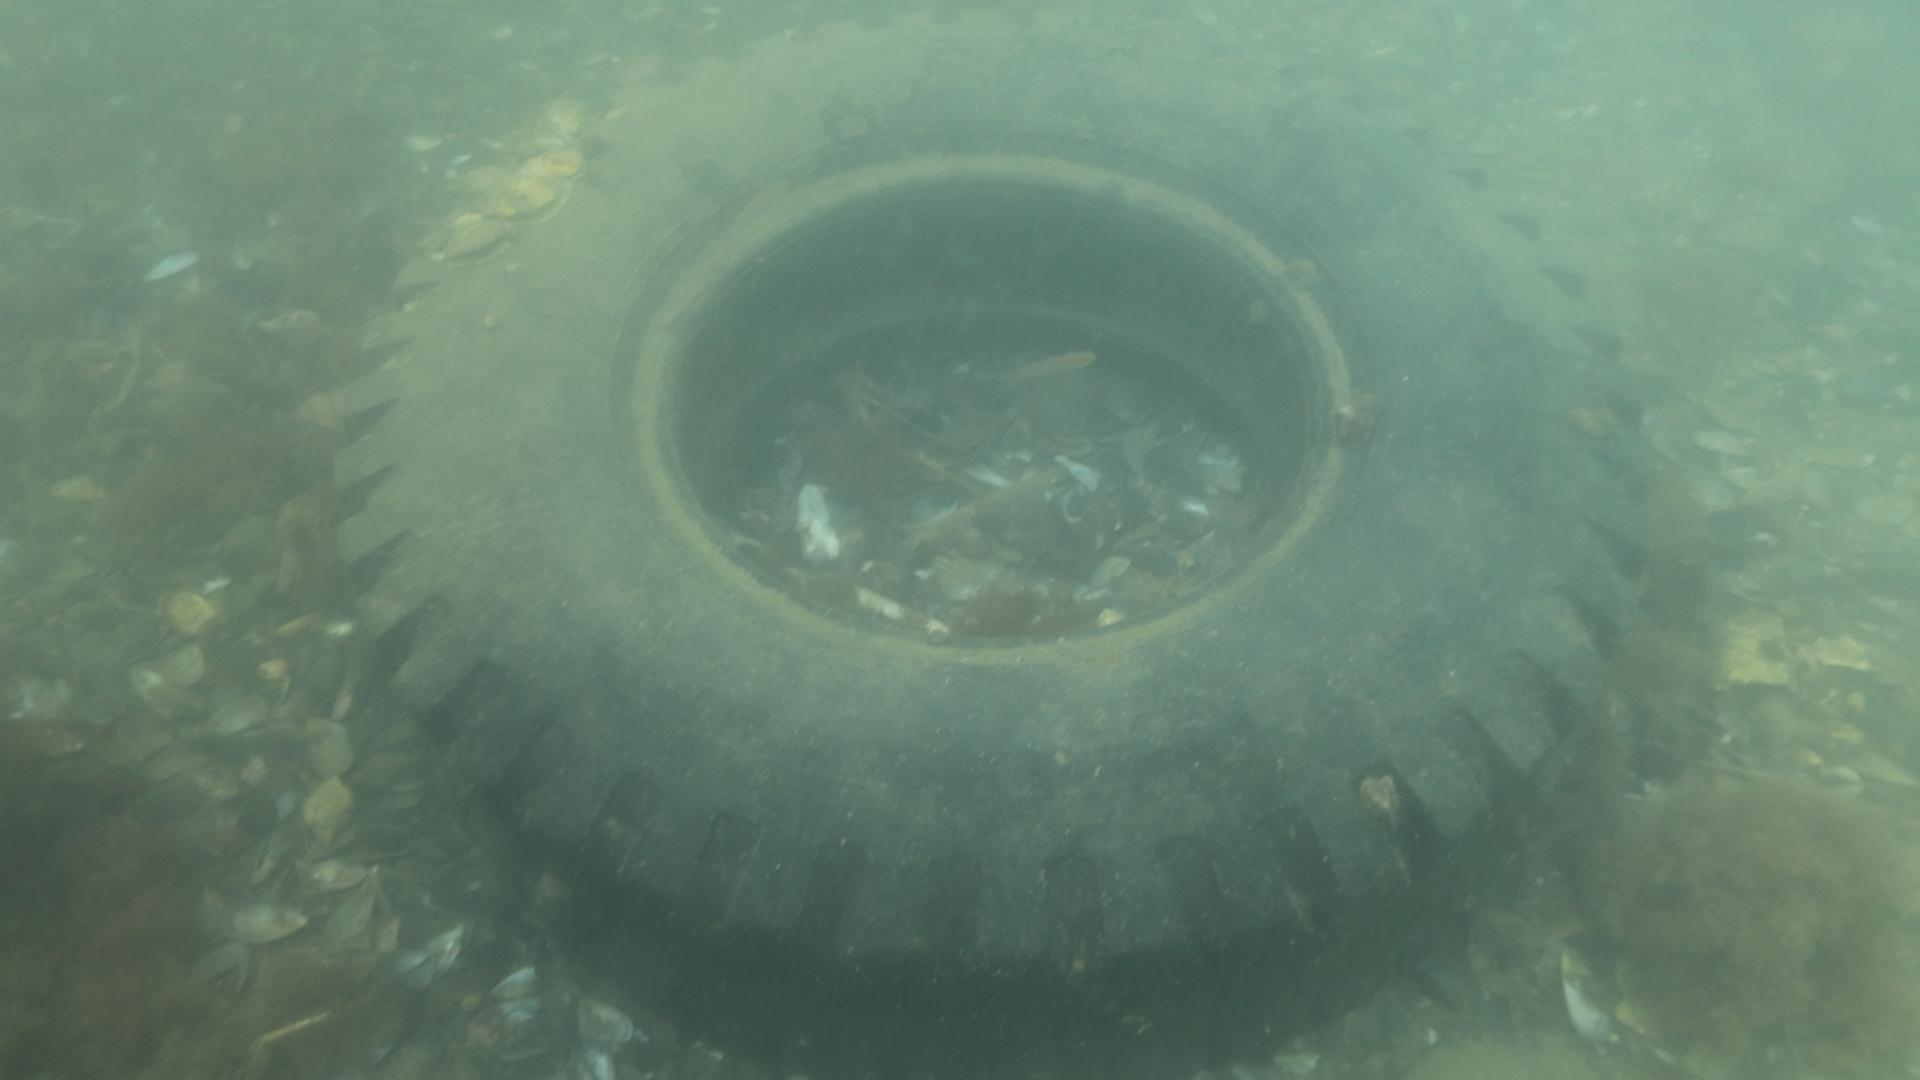tire: (336, 7, 1650, 1080)
